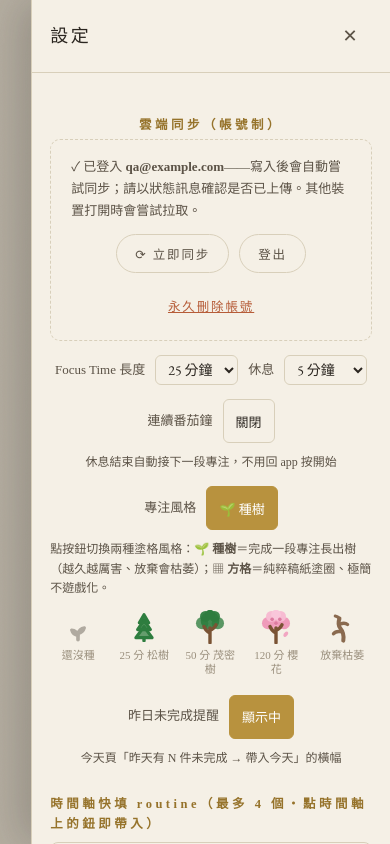
Scenario: actual Settings backup, owner and sync safety controls › rejected/held sync blocks logout and keeps local records
Step 1. Click the button "登出" → click(272, 254), box [239,234,306,273]
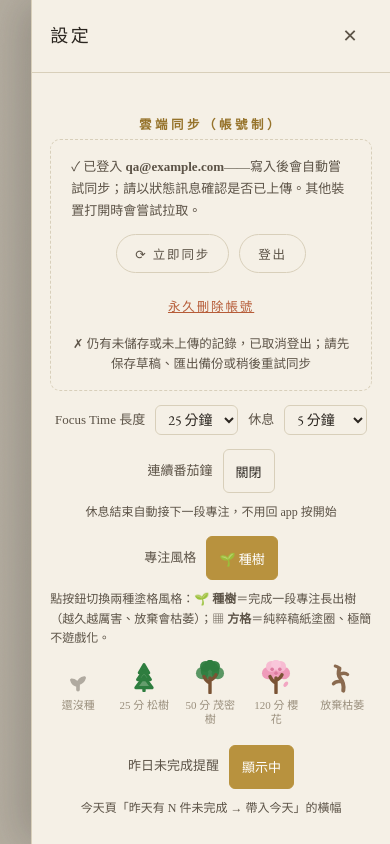
Check: the text "已取消登出" is shown, box [73,337,349,371]
